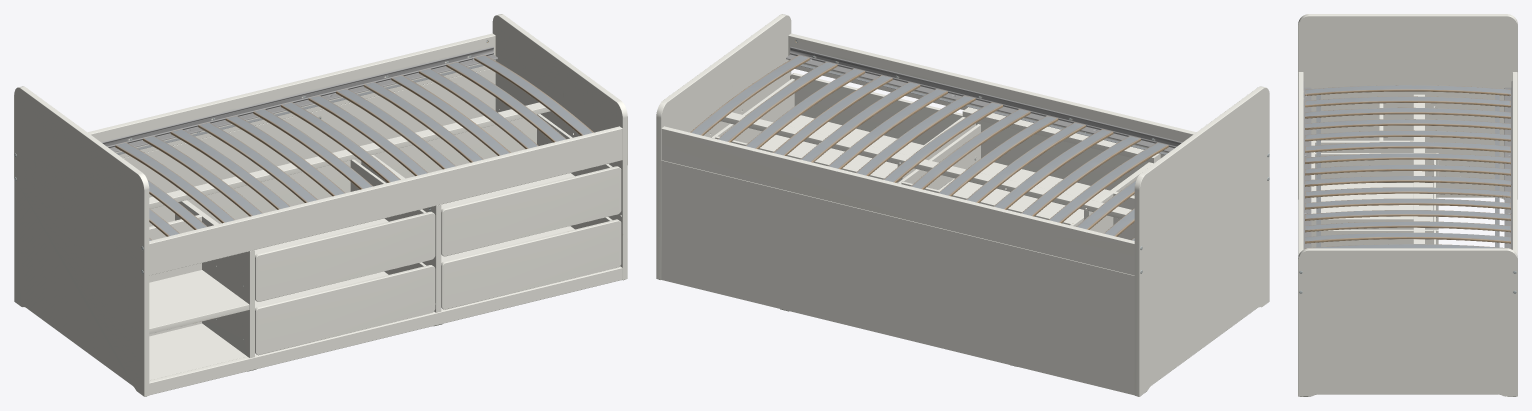
Rendered from slakt_rama_ozka_z_szufladami_29291956.glb.
3 renders of one model, left to right at view 1: azimuth 30°, elevation 25°; view 2: azimuth 150°, elevation 25°; view 3: azimuth 270°, elevation 25°, orthographic. The views are drawn at different scales.
Visible parts, largest first — view 1: slakt_rama_ozka_z_szufladami_29291956; view 2: slakt_rama_ozka_z_szufladami_29291956; view 3: slakt_rama_ozka_z_szufladami_29291956.
Boxes of the visible parts, x1,y1,x2,y2 form: slakt_rama_ozka_z_szufladami_29291956: (14,14,627,396); slakt_rama_ozka_z_szufladami_29291956: (656,14,1269,396); slakt_rama_ozka_z_szufladami_29291956: (1298,14,1517,396).
Size of the model in its own units: 2.06 by 0.8899 by 0.959.
2 materials, 1 textured.
